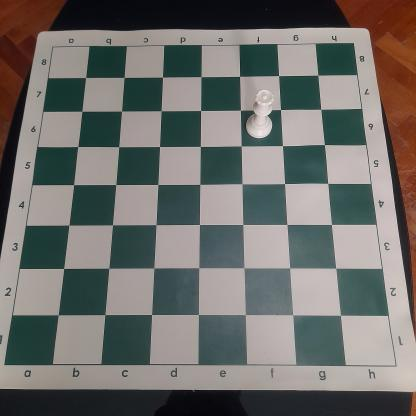white-queen: (244, 88, 276, 139)
